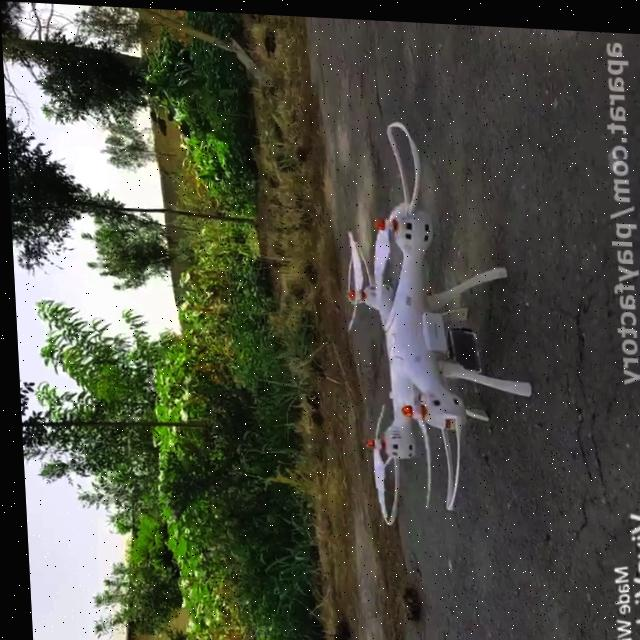drone: (334, 106, 535, 526)
